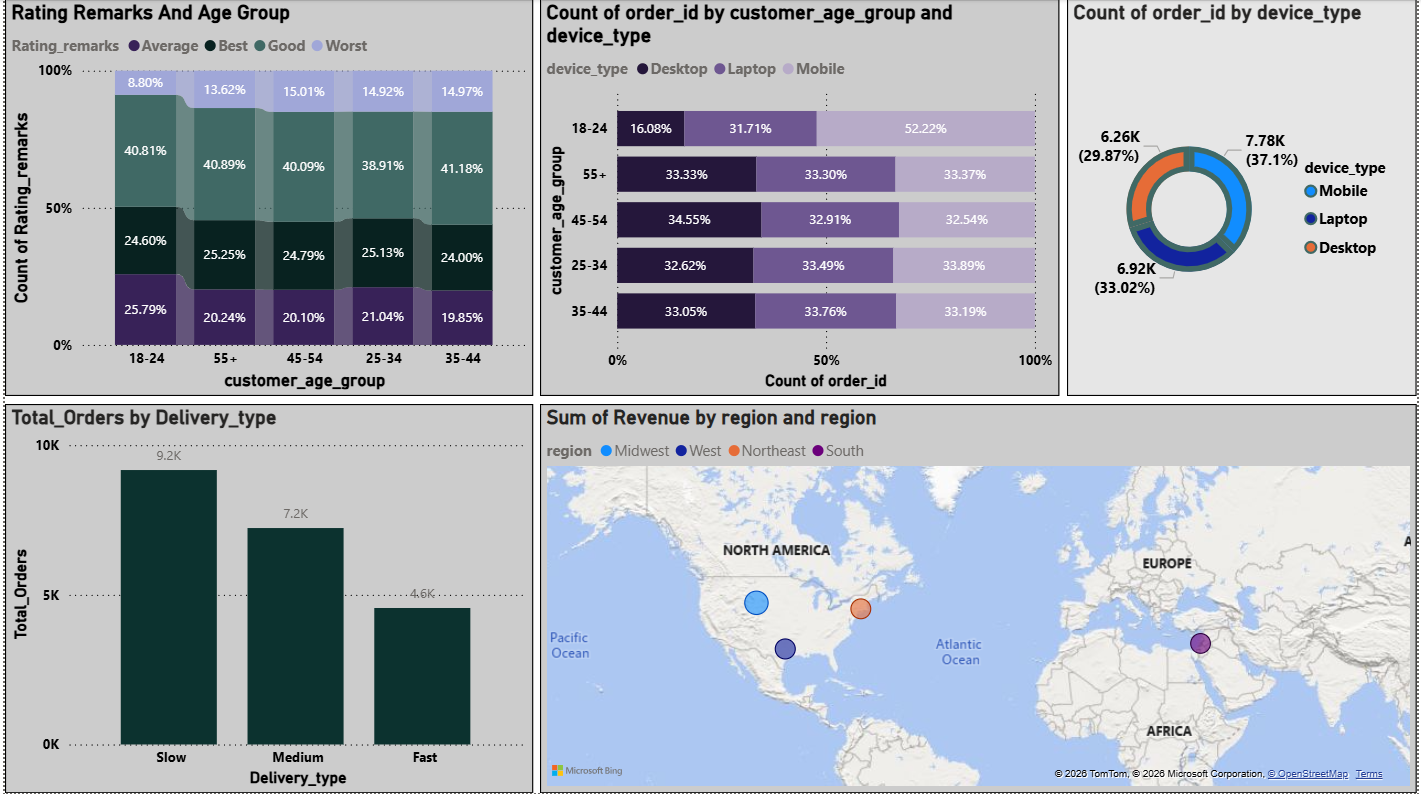

The page's visual inventory and layout, read from the dashboard file:
{"tool":"powerbi","page":{"name":"Page 3","canvas":[1280,720],"ordinal":2},"visuals":[{"type":"donutChart","fields":{"Category":["Dim_Device_Type.device_type"],"Y":["CountNonNull(Amazon_Clothing_Sales_2025.order_id)"]},"box":[963,0,317.4,360],"z":0},{"type":"hundredPercentStackedColumnChart","title":"Rating Remarks And Age Group","fields":{"Category":["Dim_Customer_AgeGroup.customer_age_group"],"Y":["CountNonNull(Amazon_Clothing_Sales_2025.Rating_remarks)"],"Series":["Amazon_Clothing_Sales_2025.Rating_remarks"]},"box":[0,0,478.8,360],"z":1000},{"type":"hundredPercentStackedBarChart","fields":{"Category":["Dim_Customer_AgeGroup.customer_age_group"],"Series":["Amazon_Clothing_Sales_2025.device_type"],"Y":["CountNonNull(Amazon_Clothing_Sales_2025.order_id)"]},"box":[485.3,0,470.8,359.9],"z":2000},{"type":"clusteredColumnChart","fields":{"Category":["Amazon_Clothing_Sales_2025.Delivery_type"],"Y":["Amazon_Clothing_Sales_2025.Total_Orders"]},"box":[0,367.3,478.8,352.7],"z":4000},{"type":"map","fields":{"Series":["Dim_Region.region"],"Size":["Sum(Amazon_Clothing_Sales_2025.Revenue)"],"Category":["Dim_Region.region"]},"box":[485.1,367.3,795.3,352.7],"z":5000}]}

Visuals, with their boxes in screenshot pixels (x1, y1, x2, y2), scaled from the page's 1280x720 canvas onto the 1421x794 screenshot:
donutChart - Dim_Device_Type.device_type x CountNonNull(Amazon_Clothing_Sales_2025.order_id): 1069/0/1420/397
"Rating Remarks And Age Group" hundredPercentStackedColumnChart: 0/0/532/397
hundredPercentStackedBarChart - Dim_Customer_AgeGroup.customer_age_group x Amazon_Clothing_Sales_2025.device_type: 539/0/1061/397
clusteredColumnChart - Amazon_Clothing_Sales_2025.Delivery_type x Amazon_Clothing_Sales_2025.Total_Orders: 0/405/532/793
map - Dim_Region.region x Sum(Amazon_Clothing_Sales_2025.Revenue): 539/405/1420/793
